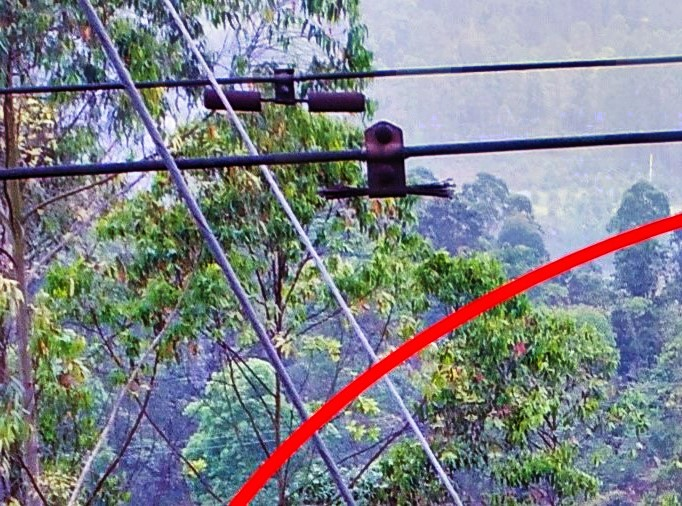Damage of shockproof hammer: (316, 112, 468, 211)
